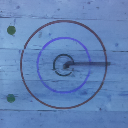Axe Tip: (63, 63, 75, 65)
